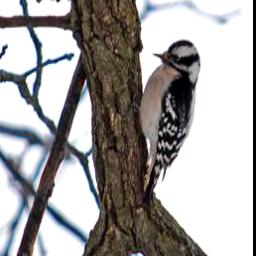Woodpecker: (124, 39, 201, 205)
